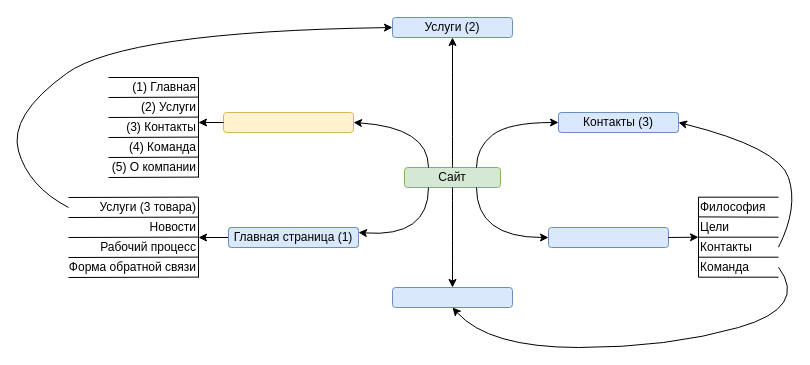
This 810x365 diagram has some shape labels left out. Each missing label, with the centre of its shape:
Команда (4): the point at 452,297
Меню магистральное: the point at 288,122
О компании (5): the point at 608,237
